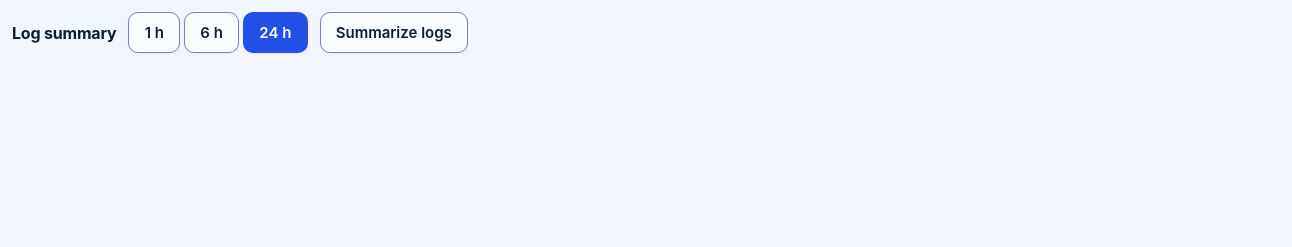
Test case: LogSummary › defaults to 24 h, posts the chosen window, renders statements and safe links
The image size is (1292, 247).
Click the button "6 h".
click(212, 33)  # box x1=184 y1=12 x2=239 y2=53
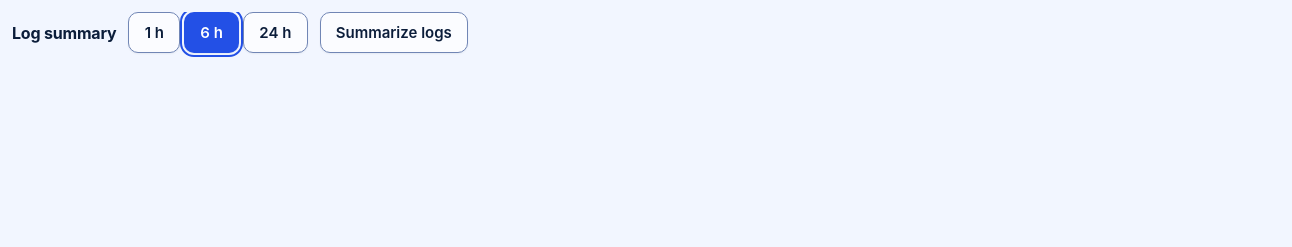
Expected: the button "6 h" is pressed, x1=184 y1=12 x2=239 y2=53
Click the button "Summarize logs".
click(394, 33)  # box x1=320 y1=12 x2=468 y2=53
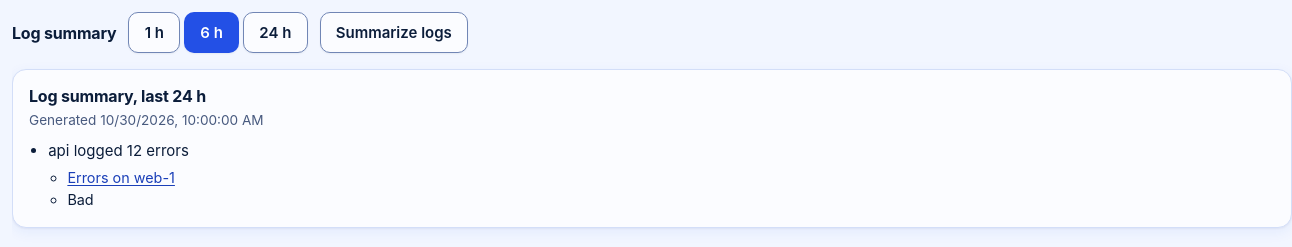
Expected: the text "api logged 12 errors" is shown, x1=48 y1=141 x2=189 y2=160
Expected: the text "Bad" is shown, x1=67 y1=191 x2=94 y2=208
